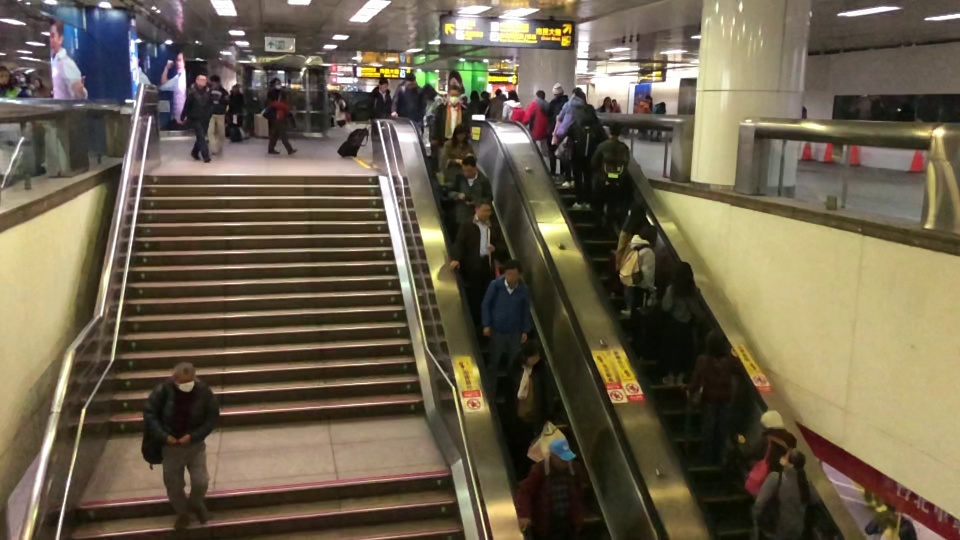person_head: (172, 362, 197, 391), (706, 326, 728, 356), (550, 439, 573, 466), (779, 447, 806, 468), (672, 260, 694, 285), (519, 339, 541, 363), (759, 410, 784, 429), (504, 259, 523, 281), (627, 200, 646, 221), (475, 198, 492, 220), (460, 155, 476, 176), (643, 225, 658, 242), (422, 82, 435, 101), (454, 125, 468, 142), (582, 105, 596, 122), (609, 120, 621, 138), (448, 85, 460, 102), (195, 72, 207, 86), (0, 65, 9, 83), (552, 82, 564, 95), (405, 74, 416, 88), (377, 76, 387, 91), (210, 74, 220, 87), (508, 88, 518, 101), (469, 89, 478, 101), (272, 78, 281, 89), (572, 87, 581, 97), (481, 89, 489, 99), (534, 90, 544, 98), (603, 95, 610, 105), (645, 94, 652, 104), (34, 78, 40, 89), (612, 98, 618, 104), (660, 101, 664, 108), (496, 89, 500, 95)
person_vbox: (144, 361, 221, 535), (481, 259, 530, 400), (690, 327, 739, 464), (752, 447, 819, 537), (506, 339, 554, 460), (449, 197, 510, 292), (658, 259, 701, 388), (517, 438, 586, 513), (738, 409, 796, 497), (591, 120, 630, 233), (567, 106, 603, 211), (619, 225, 659, 319), (615, 198, 646, 316), (431, 85, 470, 167), (178, 72, 212, 163), (448, 155, 492, 223), (264, 77, 297, 156), (557, 86, 583, 186), (547, 82, 569, 180), (440, 125, 477, 180), (421, 82, 446, 157), (207, 73, 229, 156), (391, 74, 423, 118), (524, 90, 548, 142), (367, 76, 391, 117), (0, 64, 25, 97), (635, 94, 652, 141), (502, 89, 523, 122), (651, 101, 664, 142), (491, 89, 505, 120), (32, 77, 48, 97), (480, 89, 490, 116), (468, 89, 479, 113), (598, 93, 611, 113)
